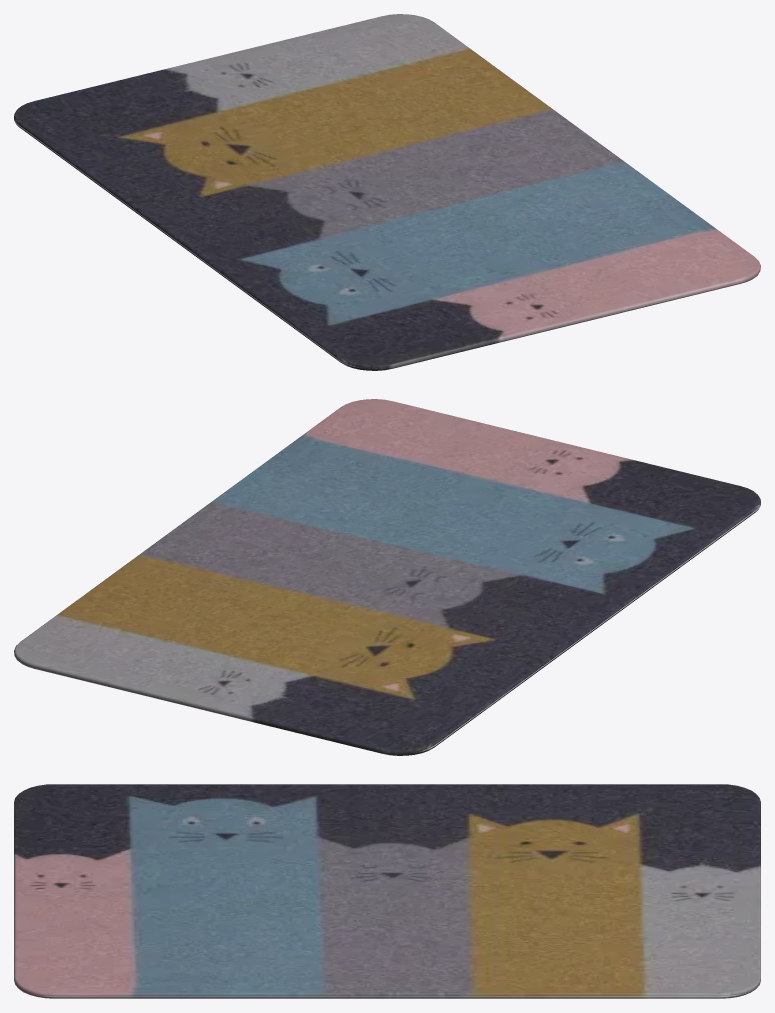
File: 14 - TURISTVÄG Door mat, indoor - cat pattern 60x90 cm.glb
The picture shows the model from 3 angles, top to bottom: view 1: azimuth 30°, elevation 25°; view 2: azimuth 150°, elevation 25°; view 3: azimuth 270°, elevation 25°; orthographic projection. The views are drawn at different scales.
Parts seen in each view (by area): view 1: 00605085_00605085_cn; view 2: 00605085_00605085_cn; view 3: 00605085_00605085_cn.
Part boxes in pixels (x1,y1,x2,y2): 00605085_00605085_cn: [14, 14, 760, 370]; 00605085_00605085_cn: [14, 399, 760, 755]; 00605085_00605085_cn: [14, 784, 760, 998].
Size of the model in its own units: 0.4001 by 0.00498 by 0.6.
1 material, 1 textured.
